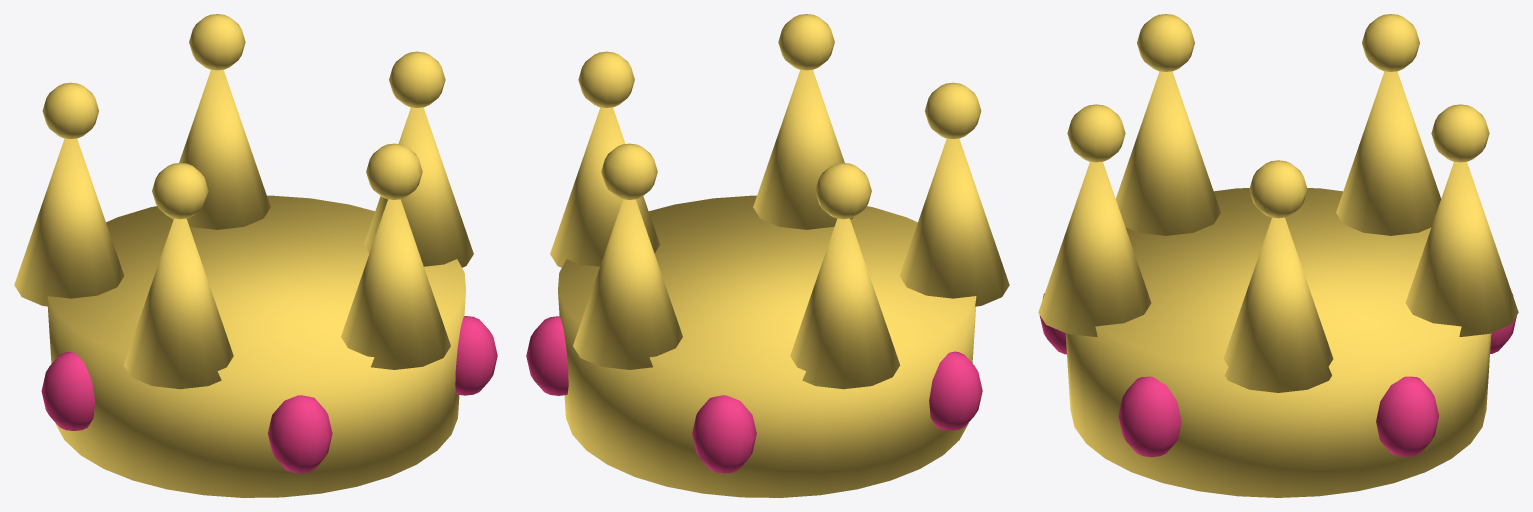
The model's file is crown.glb.
The picture shows the model from 3 angles, left to right: view 1: azimuth 30°, elevation 25°; view 2: azimuth 150°, elevation 25°; view 3: azimuth 270°, elevation 25°; orthographic projection. The views are drawn at different scales.
Visible parts, largest first — view 1: CrownBand, Spike3, Spike4, Spike2, Spike1, Spike0, Gem3, Gem2, Gem4, Ball0, Ball1, Ball3 (+2 smaller); view 2: CrownBand, Spike2, Spike1, Spike3, Spike4, Spike0, Gem1, Gem2, Gem0, Ball2, Ball0, Ball4 (+2 smaller); view 3: CrownBand, Spike0, Spike1, Spike4, Spike2, Spike3, Gem4, Gem0, Ball1, Ball2, Ball3, Ball4 (+1 smaller).
Part boxes in pixels (x1=…): CrownBand: x1=47, y1=195, x2=465, y2=497; Spike3: x1=123, y1=218, x2=233, y2=389; Spike4: x1=341, y1=199, x2=450, y2=369; Spike2: x1=14, y1=138, x2=124, y2=306; Spike1: x1=170, y1=69, x2=270, y2=229; Spike0: x1=364, y1=107, x2=473, y2=267; Gem3: x1=267, y1=395, x2=332, y2=473; Gem2: x1=41, y1=352, x2=95, y2=430; Gem4: x1=455, y1=316, x2=497, y2=395; Ball0: x1=389, y1=51, x2=445, y2=107; Ball1: x1=189, y1=14, x2=245, y2=70; Ball3: x1=152, y1=163, x2=208, y2=219; CrownBand: x1=558, y1=195, x2=976, y2=497; Spike2: x1=790, y1=218, x2=900, y2=389; Spike1: x1=573, y1=199, x2=682, y2=369; Spike3: x1=899, y1=138, x2=1009, y2=306; Spike4: x1=753, y1=69, x2=853, y2=229; Spike0: x1=550, y1=107, x2=659, y2=267; Gem1: x1=692, y1=395, x2=756, y2=473; Gem2: x1=929, y1=351, x2=982, y2=430; Gem0: x1=526, y1=316, x2=568, y2=395; Ball2: x1=815, y1=163, x2=871, y2=219; Ball0: x1=578, y1=51, x2=634, y2=107; Ball4: x1=778, y1=14, x2=834, y2=70; CrownBand: x1=1065, y1=188, x2=1491, y2=497; Spike0: x1=1223, y1=217, x2=1333, y2=392; Spike1: x1=1405, y1=161, x2=1518, y2=336; Spike4: x1=1038, y1=161, x2=1151, y2=336; Spike2: x1=1336, y1=71, x2=1440, y2=235; Spike3: x1=1116, y1=71, x2=1220, y2=235; Gem4: x1=1118, y1=376, x2=1181, y2=457; Gem0: x1=1376, y1=376, x2=1438, y2=456; Ball1: x1=1431, y1=104, x2=1489, y2=162; Ball2: x1=1362, y1=14, x2=1419, y2=71; Ball3: x1=1137, y1=14, x2=1194, y2=71; Ball4: x1=1067, y1=104, x2=1125, y2=162.
Bounding box in the file's own units: 1.2 × 0.87 × 1.15.
